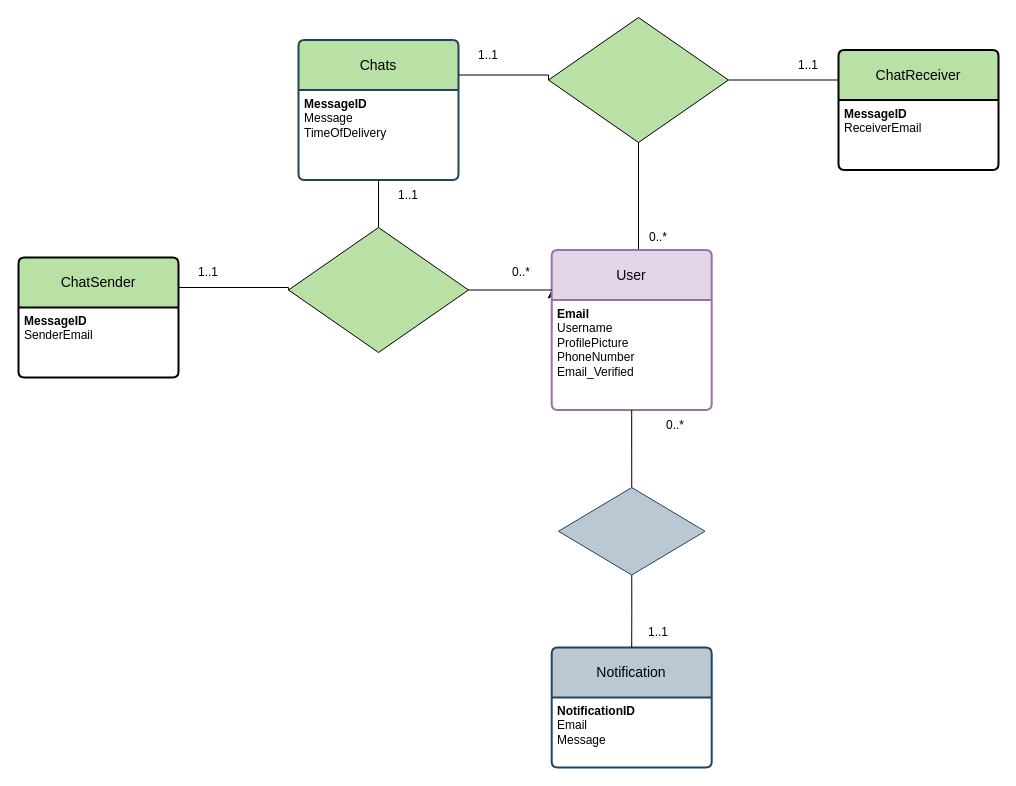
The diagram is 1016 pixels wide and 786 high, and some of its shapes have lost their labels. The shapes that lost their labels are listed below. From the top down, each one's centre as x and y in pixels, then its label:
point 638,79: Receives Message
point 378,289: Sends Message
point 631,530: Receives Notification
